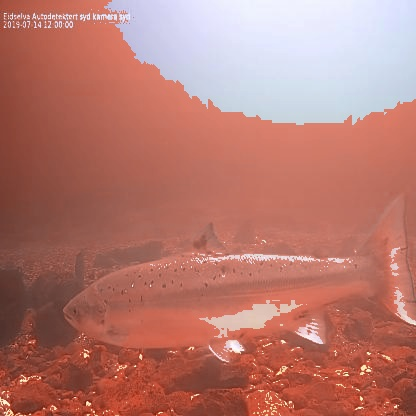salmon: (62, 188, 416, 365)
